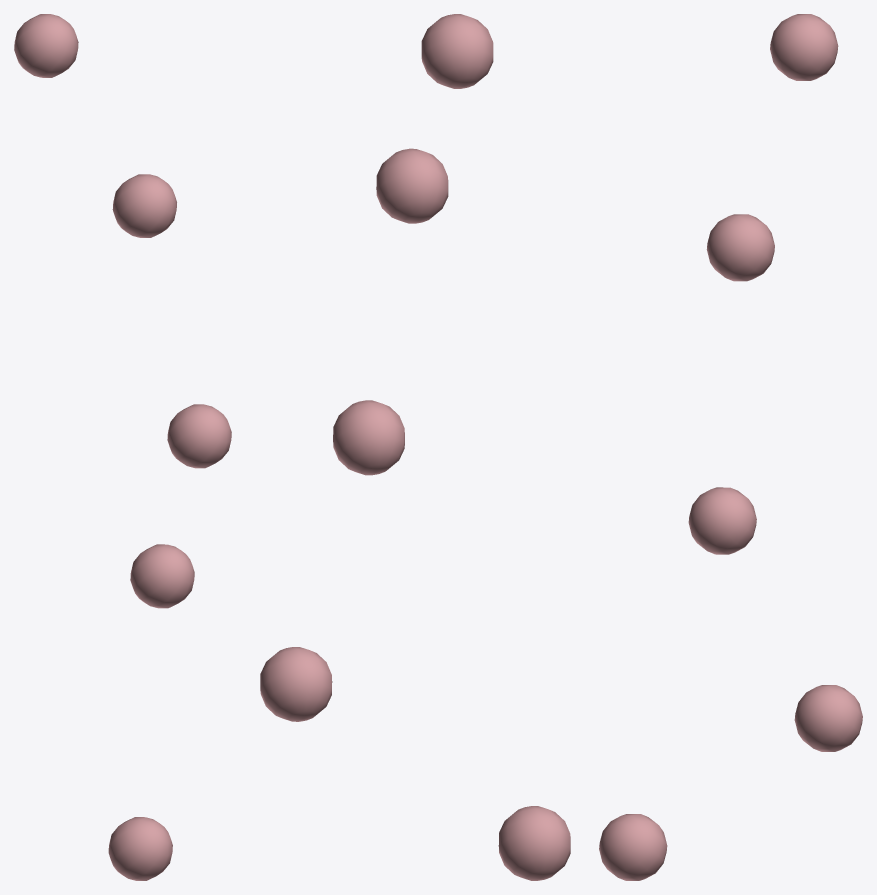
3 renders of one model, left to right at view 1: azimuth 30°, elevation 25°; view 2: azimuth 150°, elevation 25°; view 3: azimuth 270°, elevation 25°, orthographic. The views are drawn at different scales.
Visible parts, largest first — view 1: ZA_8781068168f5bd17; view 2: ZA_8781068168f5bd17; view 3: ZA_8781068168f5bd17.
Part boxes in pixels (bbox=[...]): ZA_8781068168f5bd17: bbox=[14, 14, 231, 880]; ZA_8781068168f5bd17: bbox=[260, 14, 570, 880]; ZA_8781068168f5bd17: bbox=[599, 14, 862, 880].
Bounding box in the file's own units: 0.00845 × 0.0355 × 0.00993.
